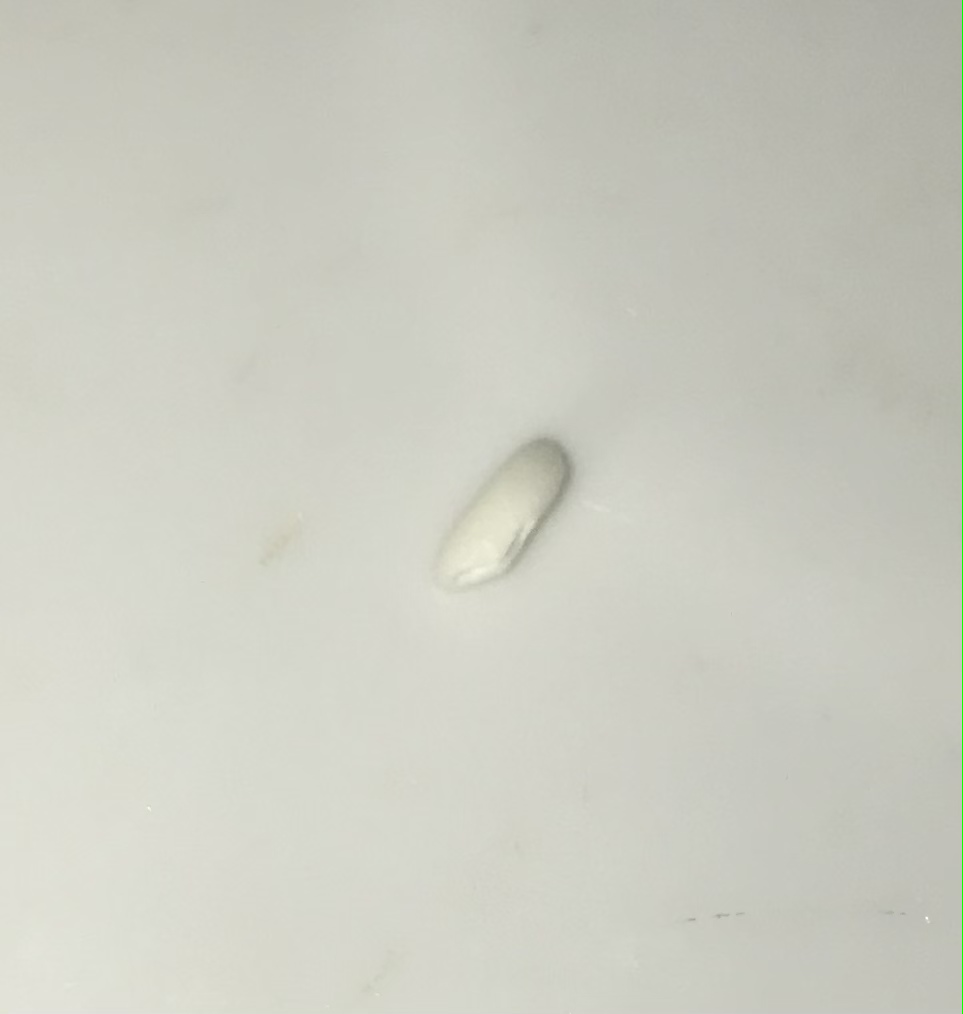Gao Nep Sap: (421, 430, 597, 611)
